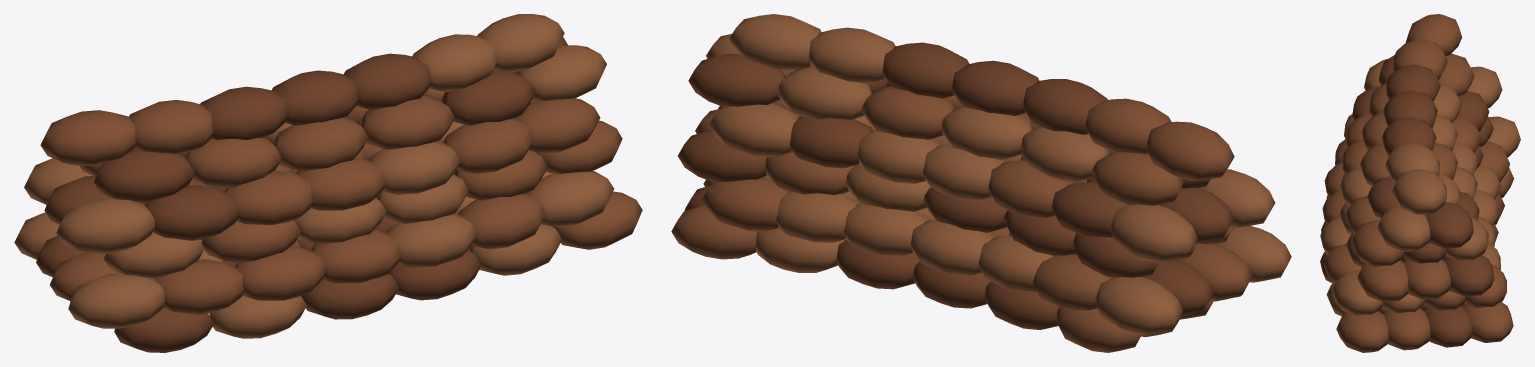
File: D14_sandbag_berm_4m.glb
3 renders of one model, left to right at view 1: azimuth 30°, elevation 25°; view 2: azimuth 150°, elevation 25°; view 3: azimuth 270°, elevation 25°, orthographic. The views are drawn at different scales.
Parts seen in each view (by area): view 1: sandbag; view 2: sandbag; view 3: sandbag.
Boxes of the visible parts, left/top/right/bottom form: sandbag: left=14, top=14, right=642, bottom=352; sandbag: left=671, top=14, right=1291, bottom=352; sandbag: left=1320, top=14, right=1520, bottom=352.
Size of the model in its own units: 4.59 by 1.61 by 1.87.
